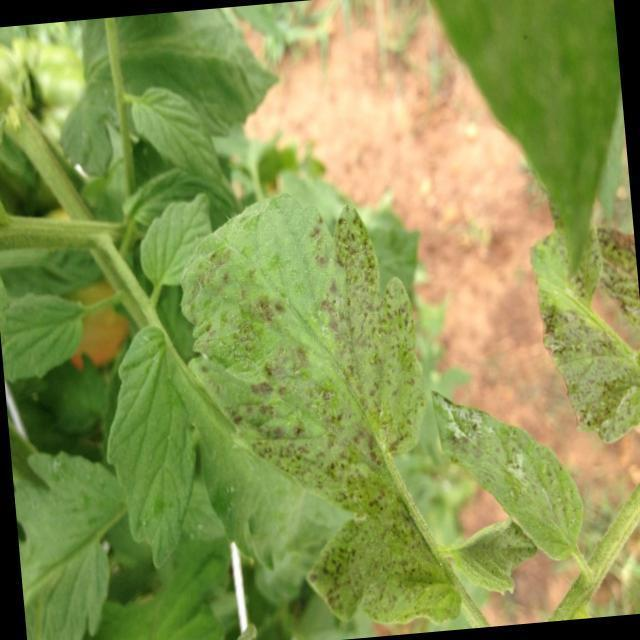Bacterial Spot: (188, 232, 450, 622), (428, 366, 594, 580), (523, 215, 640, 444)
Healthy Leaf: (101, 313, 202, 576), (10, 431, 132, 640), (125, 72, 236, 214), (0, 276, 94, 397)
